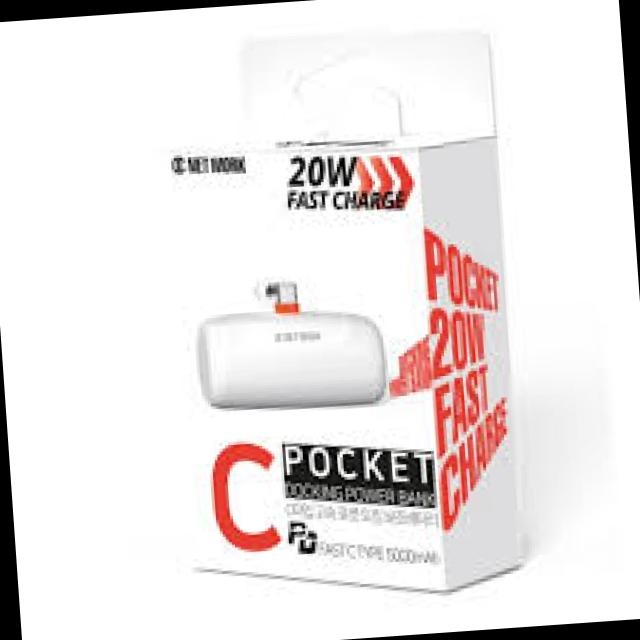portable-charger: (192, 265, 390, 422)
